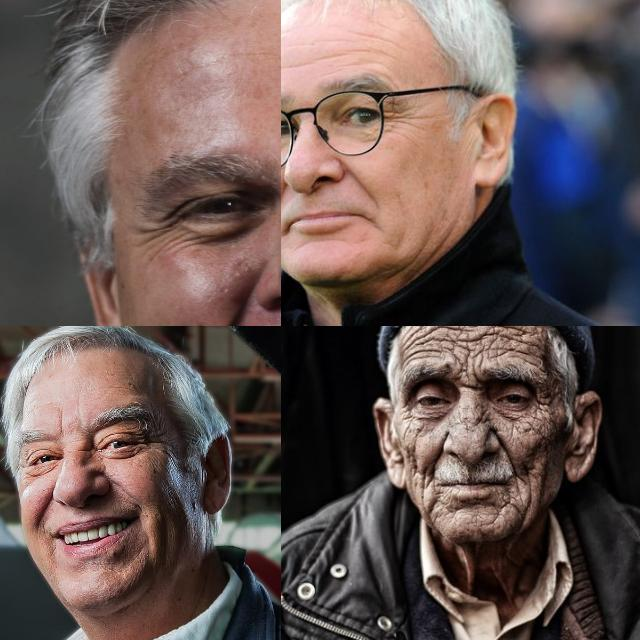bunny_line: (469, 404, 496, 426), (77, 444, 91, 462)
chin: (418, 488, 440, 520), (296, 234, 344, 248), (492, 497, 514, 521)
crows_feet: (142, 211, 180, 255), (383, 101, 407, 133), (533, 390, 555, 418), (135, 430, 151, 452)
forehead: (349, 30, 393, 59), (491, 326, 531, 356), (450, 326, 483, 360), (405, 330, 439, 358), (281, 57, 330, 70)
frown_line: (453, 368, 482, 392), (54, 416, 68, 440)
gummy_smile: (212, 284, 253, 326), (344, 160, 376, 200), (495, 430, 517, 468), (426, 442, 452, 474), (33, 492, 56, 528), (281, 173, 287, 216)
masseter: (518, 482, 540, 518)
